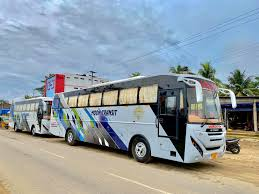bus: (50, 72, 237, 165), (9, 96, 53, 138)
